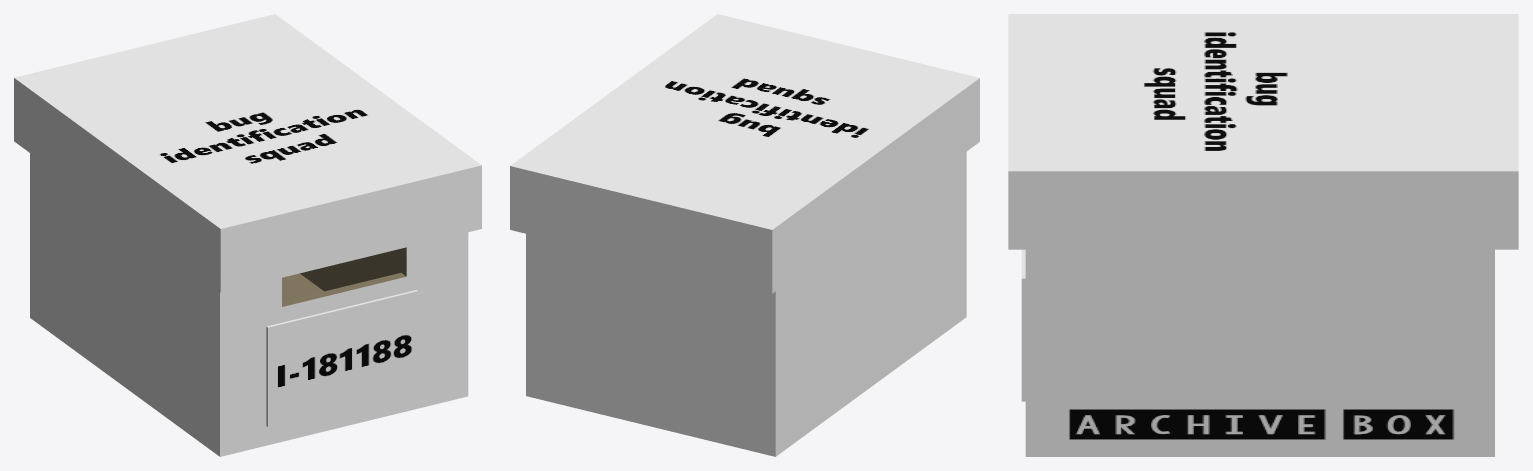
The model's file is Arcive box.fbx.
3 renders of one model, left to right at view 1: azimuth 30°, elevation 25°; view 2: azimuth 150°, elevation 25°; view 3: azimuth 270°, elevation 25°, orthographic. The views are drawn at different scales.
Parts seen in each view (by area): view 1: lid, box, lable; view 2: lid, box; view 3: lid, box, lable.
Part boxes in pixels (x1,y1,x2,y2): lid: [14, 14, 481, 292]; box: [30, 153, 468, 456]; lable: [266, 290, 418, 426]; lid: [510, 14, 979, 293]; box: [526, 152, 966, 456]; lid: [1008, 14, 1518, 249]; box: [1025, 249, 1494, 456]; lable: [1021, 249, 1025, 401].
Bounding box in the file's own units: 1.21 × 1.04 × 1.66.
2 materials, 2 textured.
